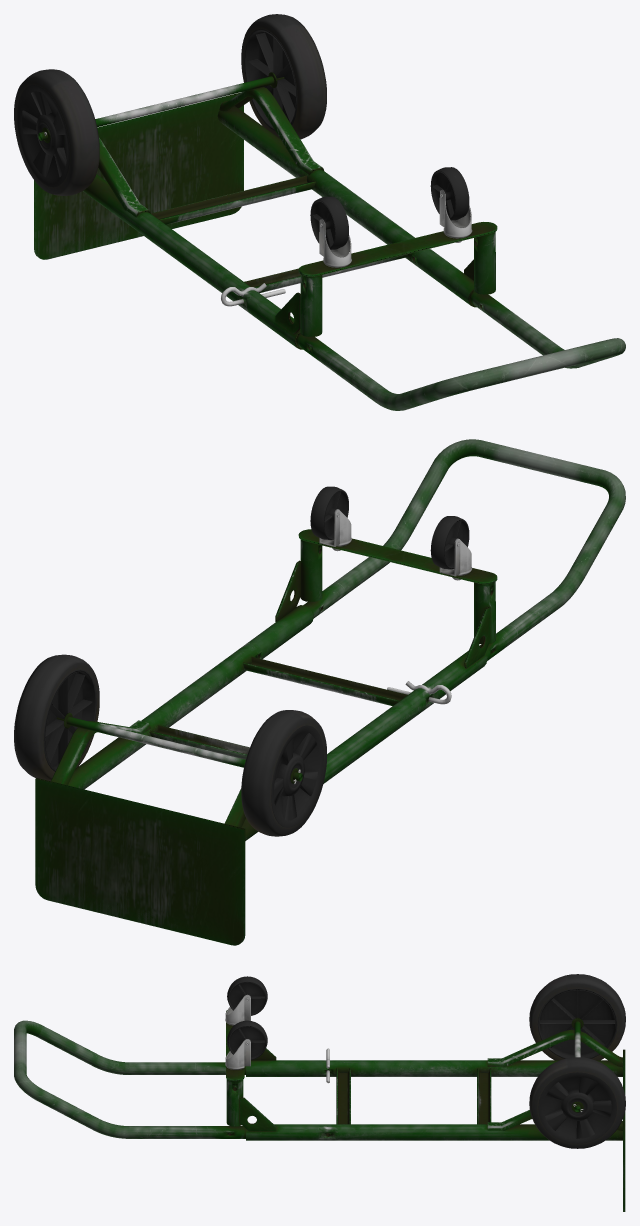
3 renders of one model, top to bottom at view 1: azimuth 30°, elevation 25°; view 2: azimuth 150°, elevation 25°; view 3: azimuth 270°, elevation 25°, orthographic. The views are drawn at different scales.
Parts seen in each view (by area): view 1: SM_HandTruck.063; view 2: SM_HandTruck.063; view 3: SM_HandTruck.063.
Boxes of the visible parts, x1,y1,x2,y2 form: SM_HandTruck.063: [14, 14, 625, 410]; SM_HandTruck.063: [14, 439, 625, 945]; SM_HandTruck.063: [14, 974, 625, 1211].
Bounding box in the file's own units: 0.4371 × 0.3777 × 1.18.
1 material, 1 textured.
